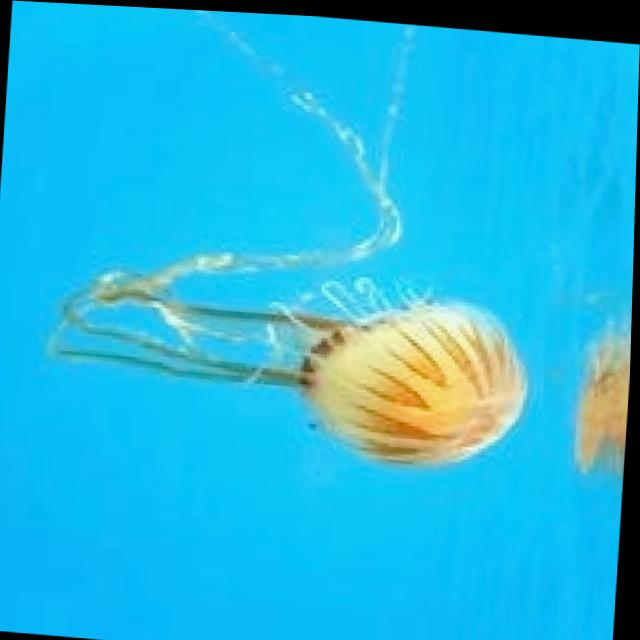Box-jellyfish: (23, 119, 558, 486)
